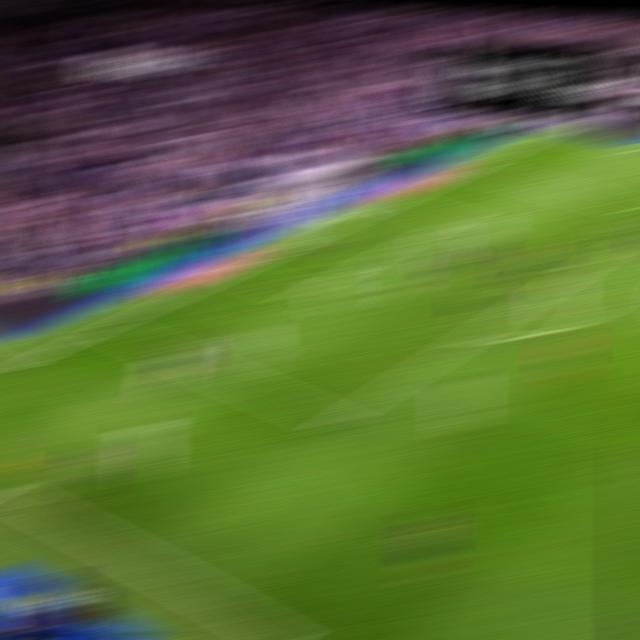bigarea_bottom_inner: (318, 409, 353, 434)
bigarea_bottom_outter: (90, 320, 122, 333)
bigarea_top_outter: (458, 162, 488, 173)
bottom_arc_area_intersection: (454, 328, 488, 343)
corner: (536, 128, 569, 136)
smallarea_bottom_inner: (285, 286, 316, 302)
smallarea_top_inner: (439, 212, 470, 225)
top_arc_area_intersection: (572, 257, 602, 271)
